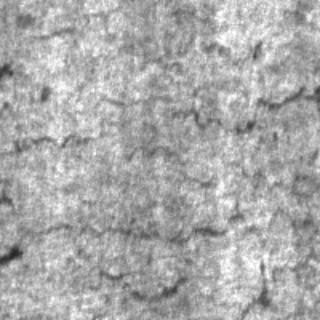crazing: (2, 82, 284, 242), (27, 202, 313, 306), (122, 35, 318, 131)
